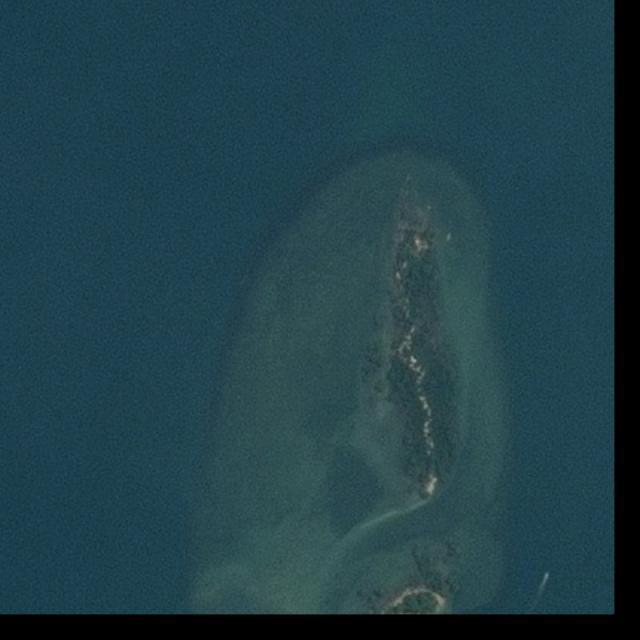ship: (546, 570, 550, 577)
